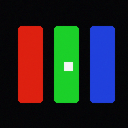1 square: (64, 62, 72, 70)
